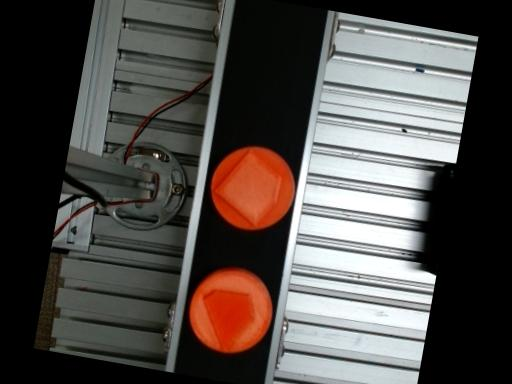Not_Square: (214, 149, 281, 226), (203, 288, 253, 354)
Orange_Waper: (190, 265, 273, 352), (211, 145, 295, 228)
